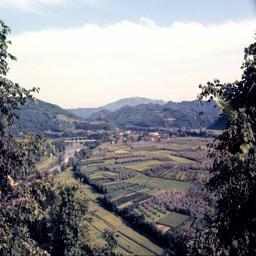Cuckoo: (215, 94, 237, 123)
